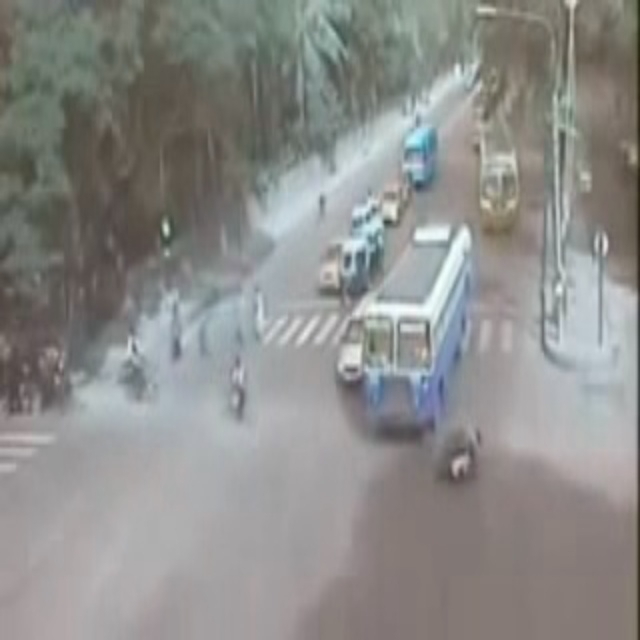acc: (388, 394, 501, 502)
